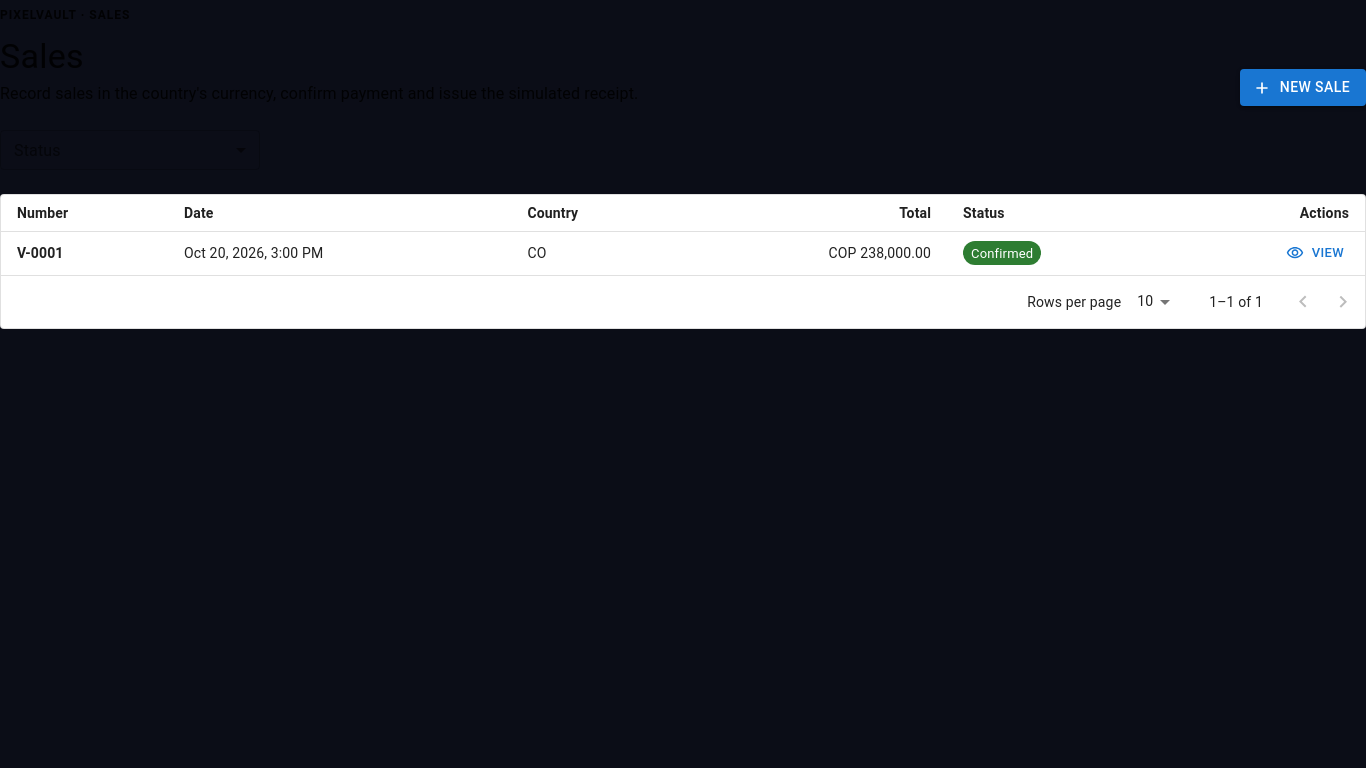
SalesPage › formats the same amount differently when the language changes, without reloading
The width and height of the screenshot is (1366, 768).
Expected: the text "Confirmed" is shown, [971,246,1033,260]
Click the button "View": (1316,253) [1283,238,1349,269]
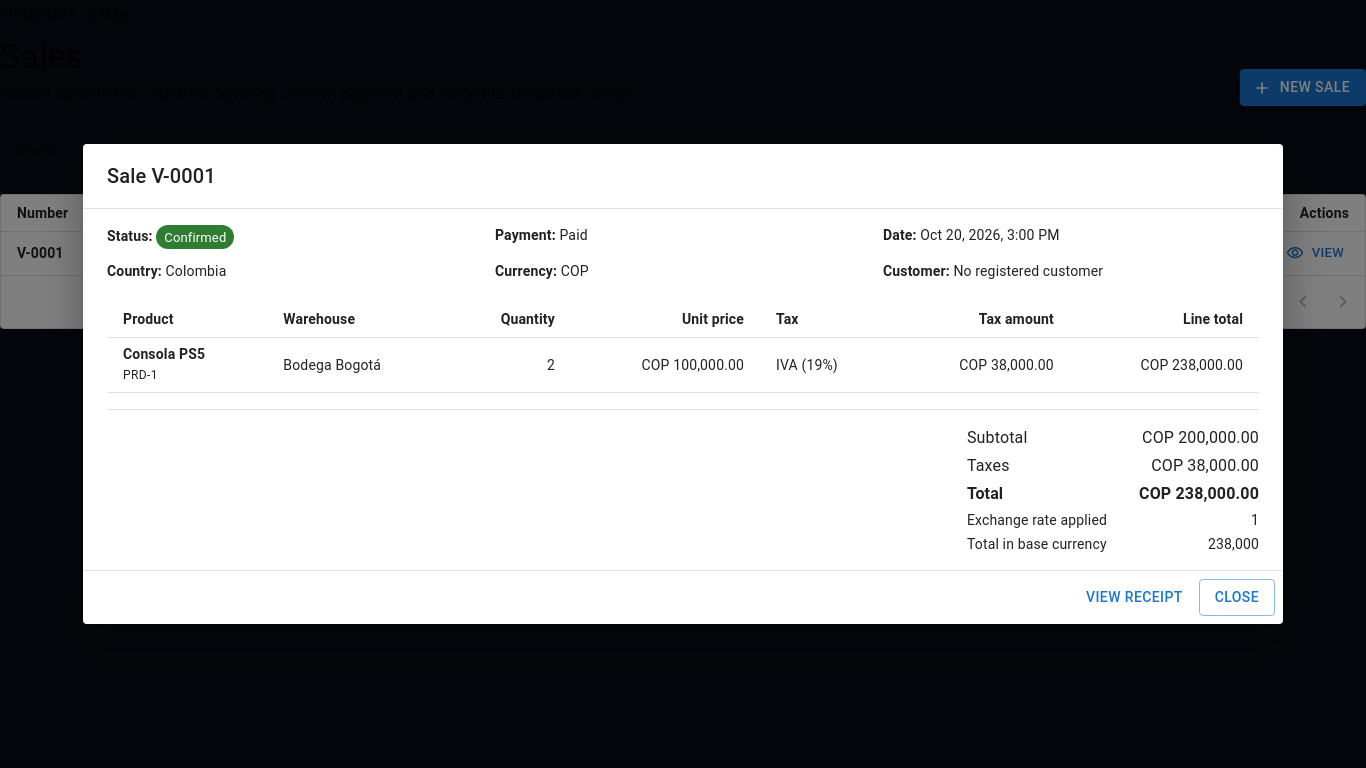
Now the button "View receipt" is shown, box [1078,579,1191,616]
